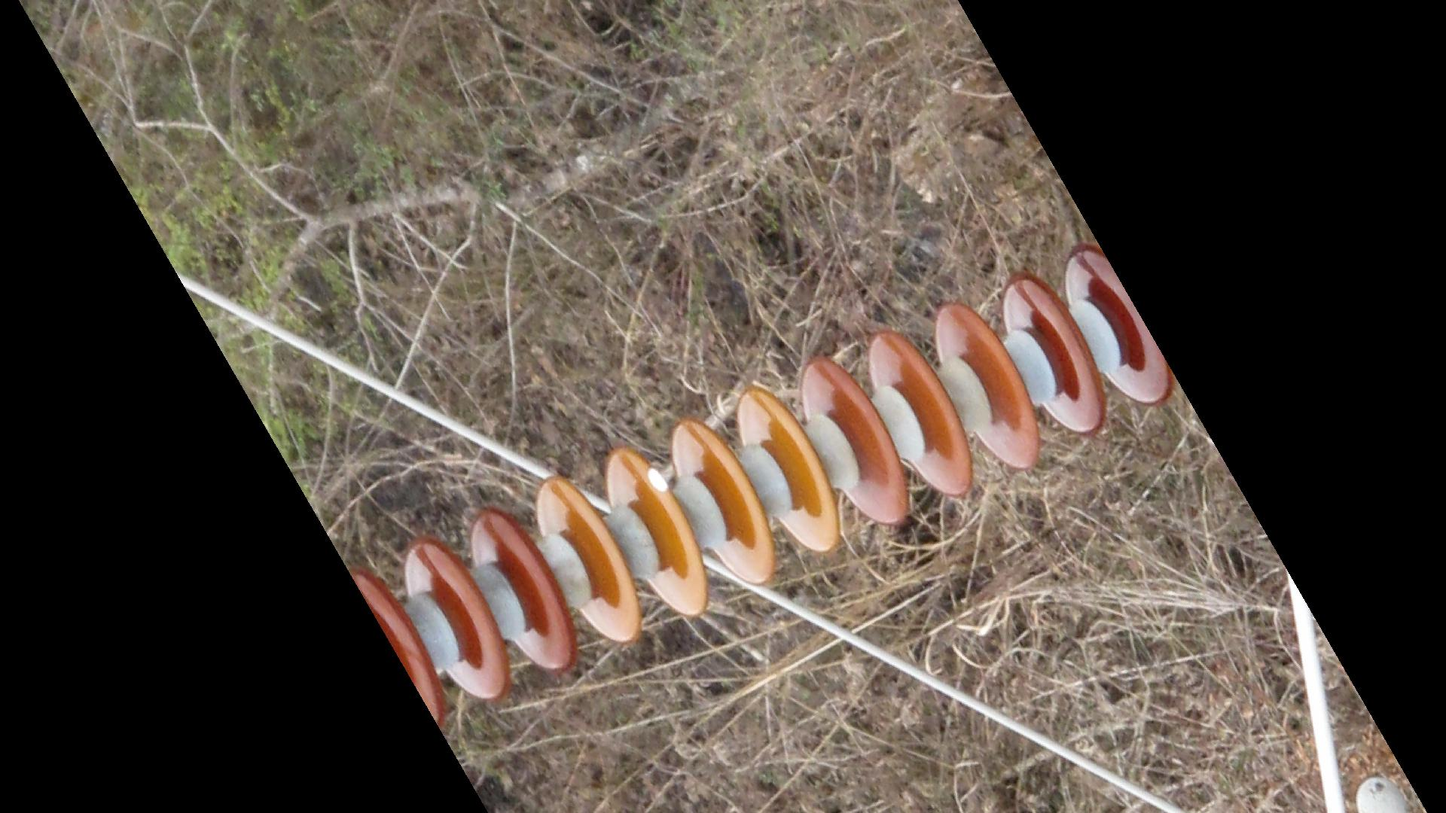insulator: (343, 240, 1186, 735)
insulator_breakage: (637, 459, 676, 502)
